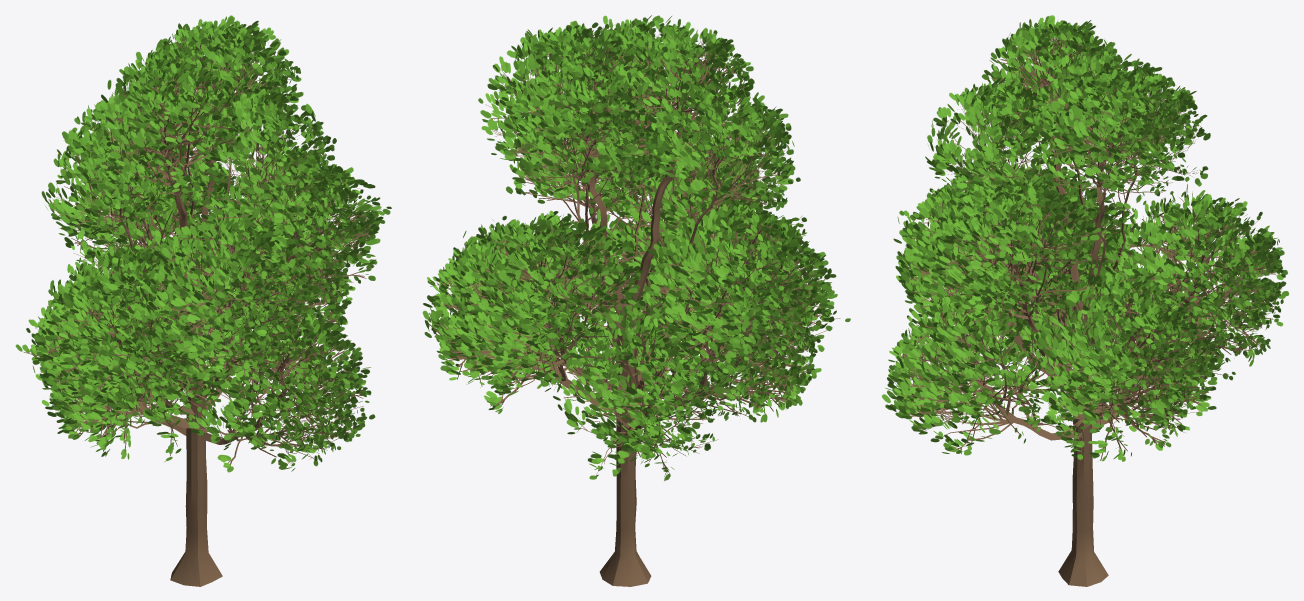
File: stylized_tree-5352a2ee.glb
The picture shows the model from 3 angles, left to right: view 1: azimuth 30°, elevation 25°; view 2: azimuth 150°, elevation 25°; view 3: azimuth 270°, elevation 25°; orthographic projection. The views are drawn at different scales.
Parts seen in each view (by area): view 1: oak 01_leafes_Mat.001_0, oak 01.001_trunk_Mat.001_0; view 2: oak 01_leafes_Mat.001_0, oak 01.001_trunk_Mat.001_0; view 3: oak 01_leafes_Mat.001_0, oak 01.001_trunk_Mat.001_0.
Boxes of the visible parts, box(x1,y1,x2,y2) form: oak 01_leafes_Mat.001_0: box(15, 15, 391, 472); oak 01.001_trunk_Mat.001_0: box(23, 32, 382, 586); oak 01_leafes_Mat.001_0: box(422, 15, 850, 481); oak 01.001_trunk_Mat.001_0: box(429, 28, 840, 586); oak 01_leafes_Mat.001_0: box(882, 15, 1288, 461); oak 01.001_trunk_Mat.001_0: box(890, 32, 1281, 586).
Bounding box in the file's own units: 0.3678 × 0.564 × 0.389.
2 materials, 1 textured.
